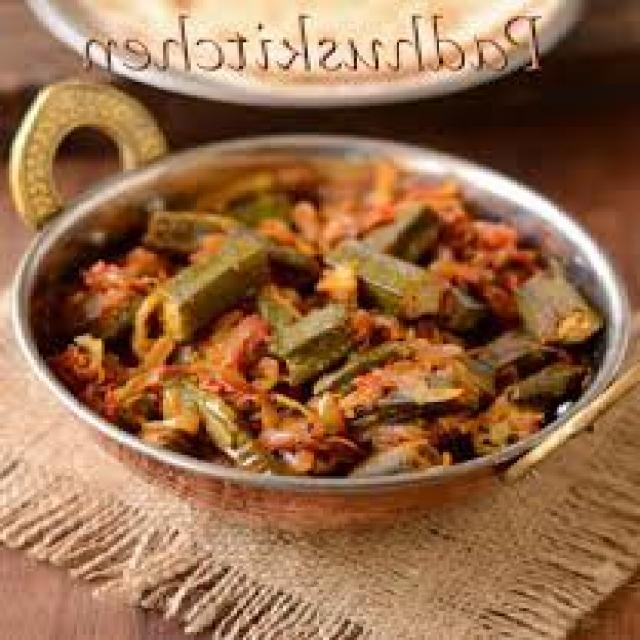Bhindi Masala: (45, 155, 604, 479)
